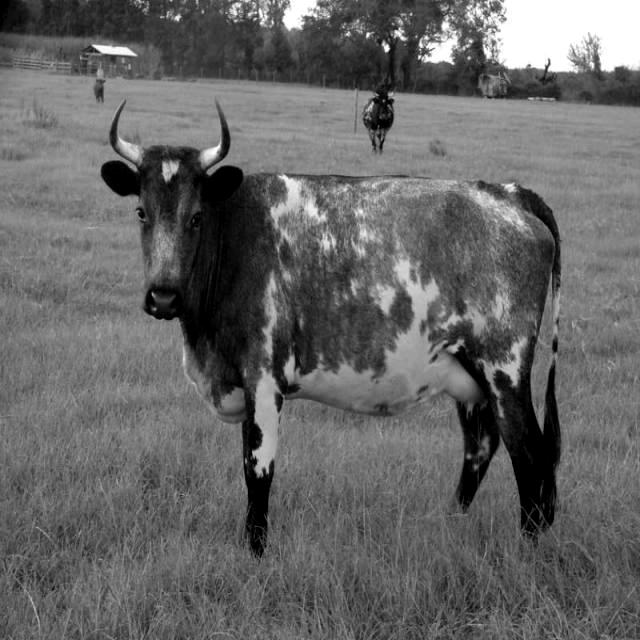COW: (101, 101, 560, 553)
